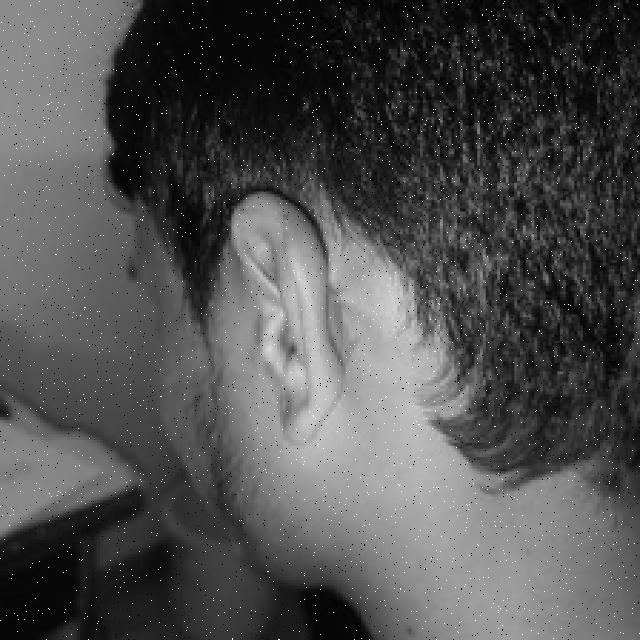ear: (226, 191, 340, 440)
